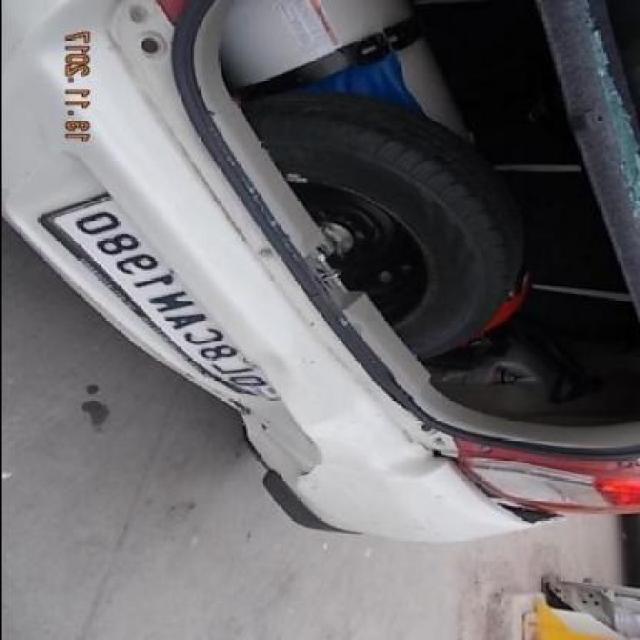damage: (408, 439, 558, 522), (223, 389, 331, 485), (247, 347, 295, 382)
